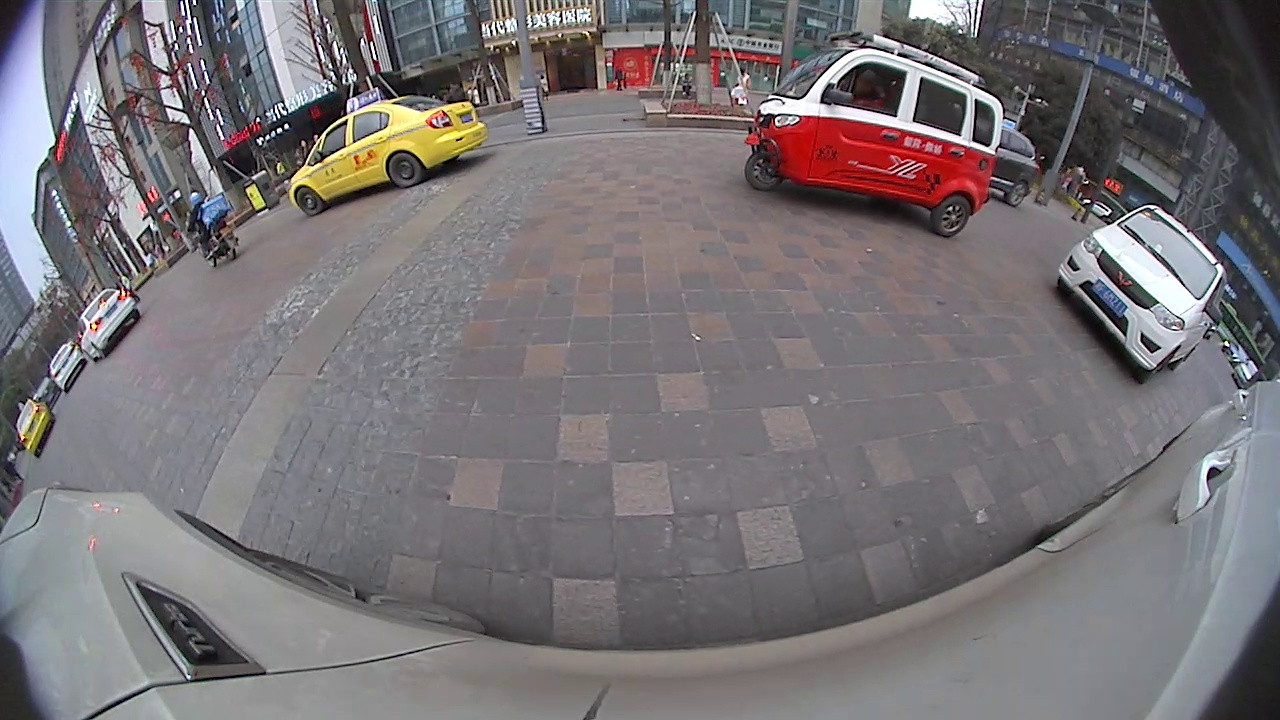car: (1056, 202, 1230, 388), (286, 87, 491, 219), (76, 287, 143, 365), (990, 125, 1042, 210), (13, 398, 57, 459), (46, 341, 90, 395)
front: (741, 147, 787, 194), (293, 186, 326, 218)
rear: (933, 192, 974, 241), (383, 149, 425, 190)
rider: (743, 30, 1005, 238), (186, 190, 242, 269)
